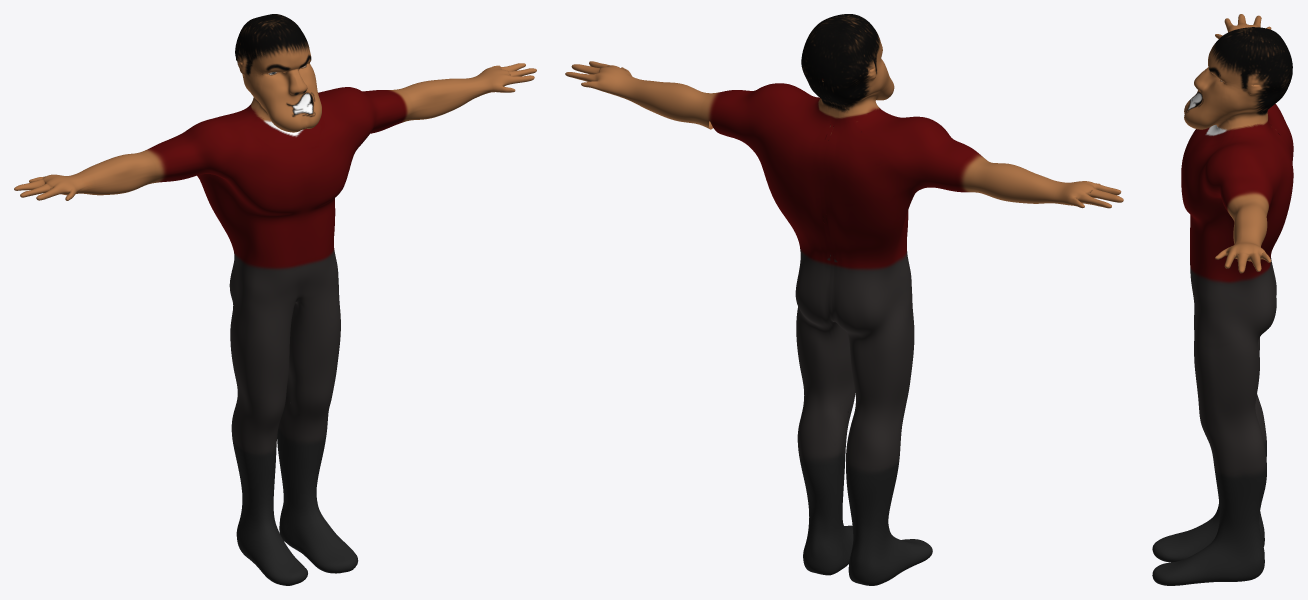
The model's file is hero.fbx.
The picture shows the model from 3 angles, left to right: view 1: azimuth 30°, elevation 25°; view 2: azimuth 150°, elevation 25°; view 3: azimuth 270°, elevation 25°; orthographic projection. The views are drawn at different scales.
Parts seen in each view (by area): view 1: retopo2:RetopoGroup1; view 2: retopo2:RetopoGroup1; view 3: retopo2:RetopoGroup1.
Part boxes in pixels (bbox=[...]): retopo2:RetopoGroup1: bbox=[14, 14, 536, 585]; retopo2:RetopoGroup1: bbox=[565, 14, 1123, 585]; retopo2:RetopoGroup1: bbox=[1152, 14, 1293, 585].
Size of the model in its own units: 2 by 1.95 by 0.4648.
